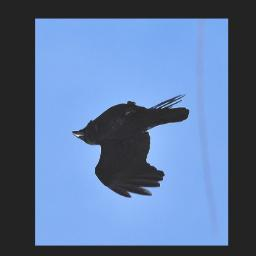Crow: (71, 92, 190, 198)
